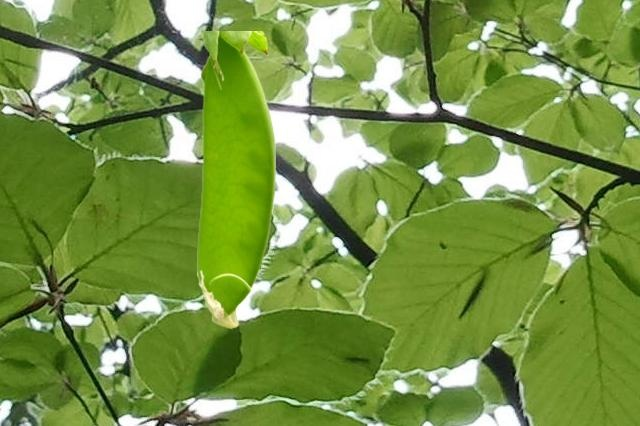pea: (197, 31, 274, 327)
